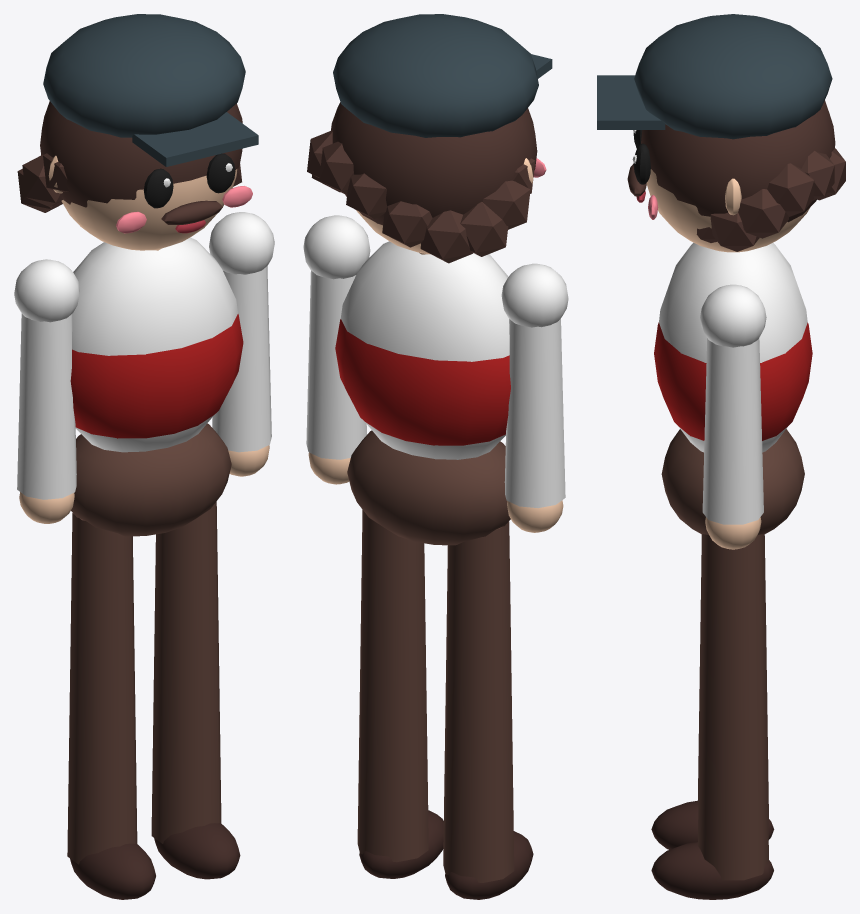
The model's file is foot_fiddler.glb.
3 views of the same model, side by side, from view 1: azimuth 30°, elevation 25°; view 2: azimuth 150°, elevation 25°; view 3: azimuth 270°, elevation 25° (orthographic).
Parts seen in each view (by area): view 1: Body.006, Leg_R.006, Leg_L.006, Arm_R.003, Arm_L.003; view 2: Body.006, Leg_R.006, Leg_L.006, Arm_R.003, Arm_L.003; view 3: Body.006, Leg_L.006, Arm_L.003, Leg_R.006.
Part boxes in pixels (<box>): Body.006: <box>17,14,258,536</box>; Leg_R.006: <box>67,513,155,899</box>; Leg_L.006: <box>151,501,240,879</box>; Arm_R.003: <box>14,259,79,523</box>; Arm_L.003: <box>209,212,274,476</box>; Body.006: <box>307,14,552,545</box>; Leg_R.006: <box>443,521,533,899</box>; Leg_L.006: <box>357,509,443,878</box>; Arm_R.003: <box>501,263,568,532</box>; Arm_L.003: <box>303,215,370,484</box>; Body.006: <box>597,14,845,534</box>; Leg_L.006: <box>651,534,773,899</box>; Arm_L.003: <box>700,284,766,549</box>; Leg_R.006: <box>651,534,774,849</box>.
Bounding box in the file's own units: 0.57 × 1.82 × 0.4859.
